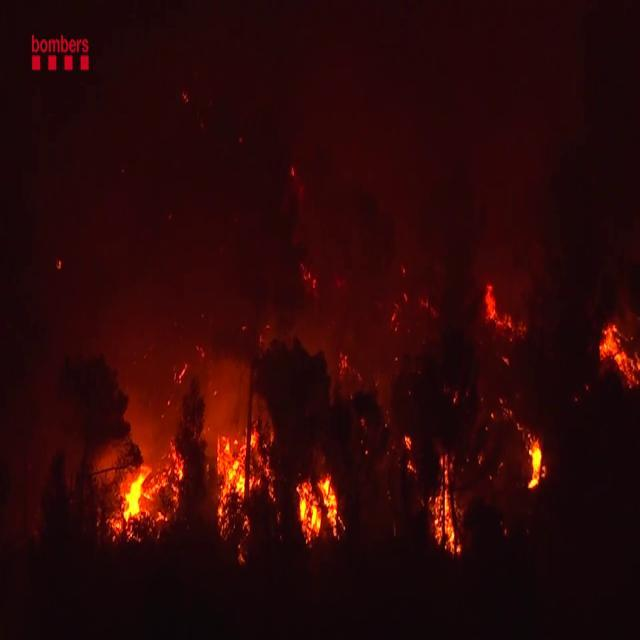Fire: (295, 466, 343, 544), (214, 426, 250, 522), (112, 463, 156, 537), (430, 451, 460, 558), (599, 311, 632, 384), (478, 275, 510, 329), (526, 431, 546, 494)
Smoke: (127, 273, 276, 442)
